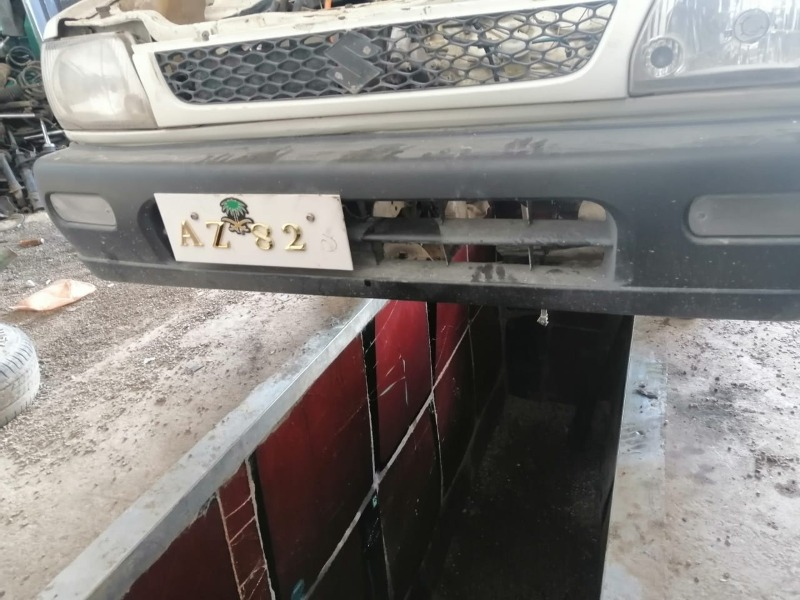License Plate: (149, 187, 357, 281)
